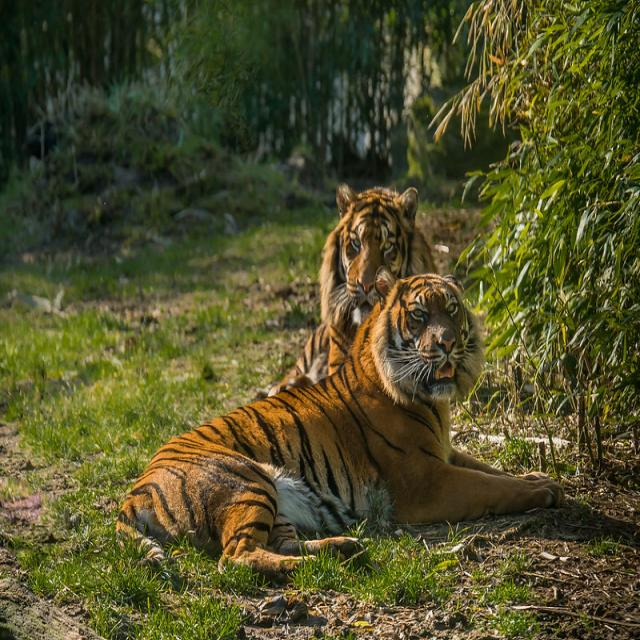Tiger: (110, 262, 568, 587), (255, 179, 442, 409)
